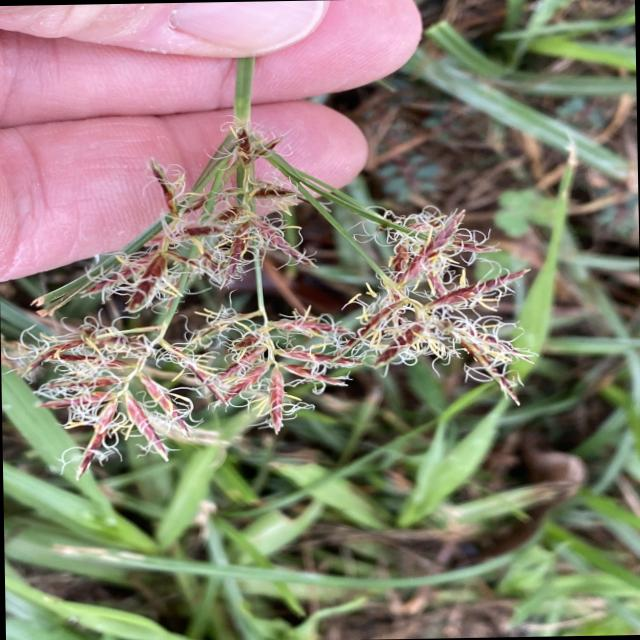cyperus: (0, 121, 542, 480)
